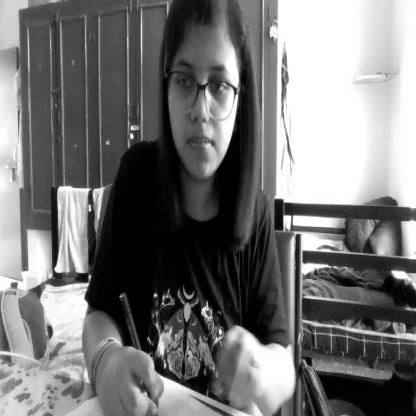Normal: (163, 0, 245, 188)
